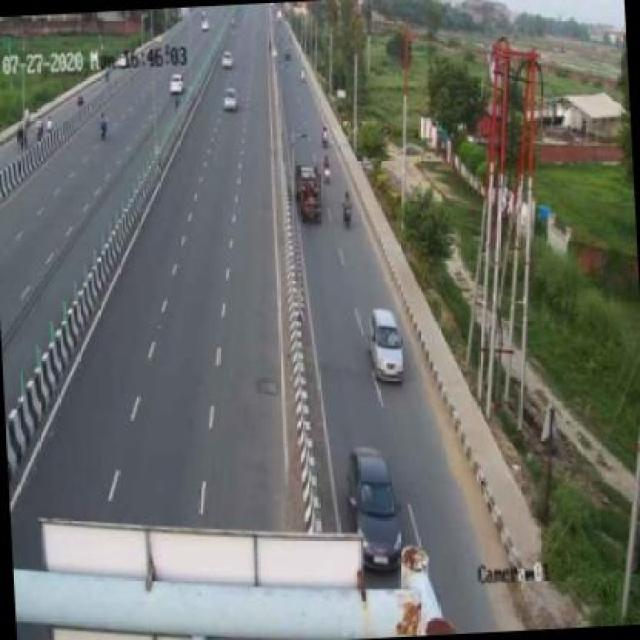car: (342, 438, 409, 568), (368, 309, 408, 382), (218, 88, 242, 119)
